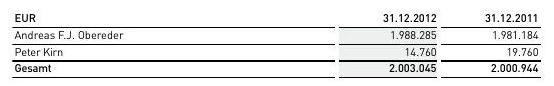table: (0, 0, 554, 86)
